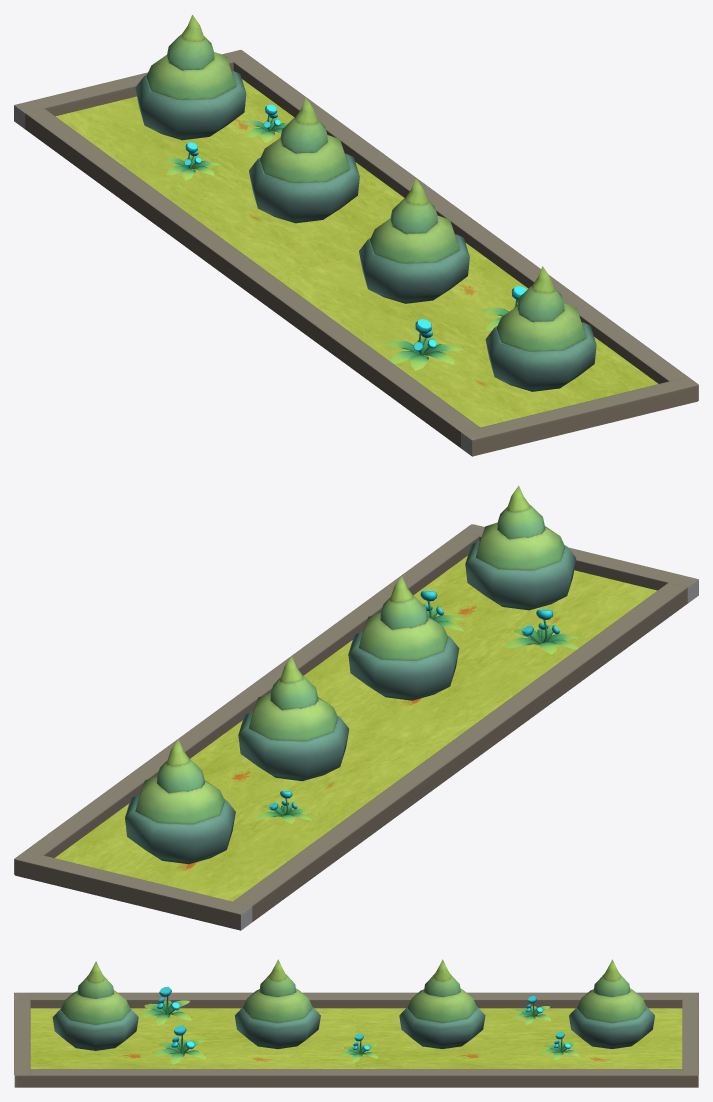
The model's file is boncay_3.fbx.
3 renders of one model, top to bottom at view 1: azimuth 30°, elevation 25°; view 2: azimuth 150°, elevation 25°; view 3: azimuth 270°, elevation 25°, orthographic. The views are drawn at different scales.
Parts seen in each view (by area): view 1: boncay_3; view 2: boncay_3; view 3: boncay_3.
Part boxes in pixels (left/top/right/bottom): boncay_3: left=14, top=15, right=698, bottom=456; boncay_3: left=14, top=485, right=698, bottom=930; boncay_3: left=14, top=959, right=698, bottom=1087.
Size of the model in its own units: 404 by 204 by 1410.
